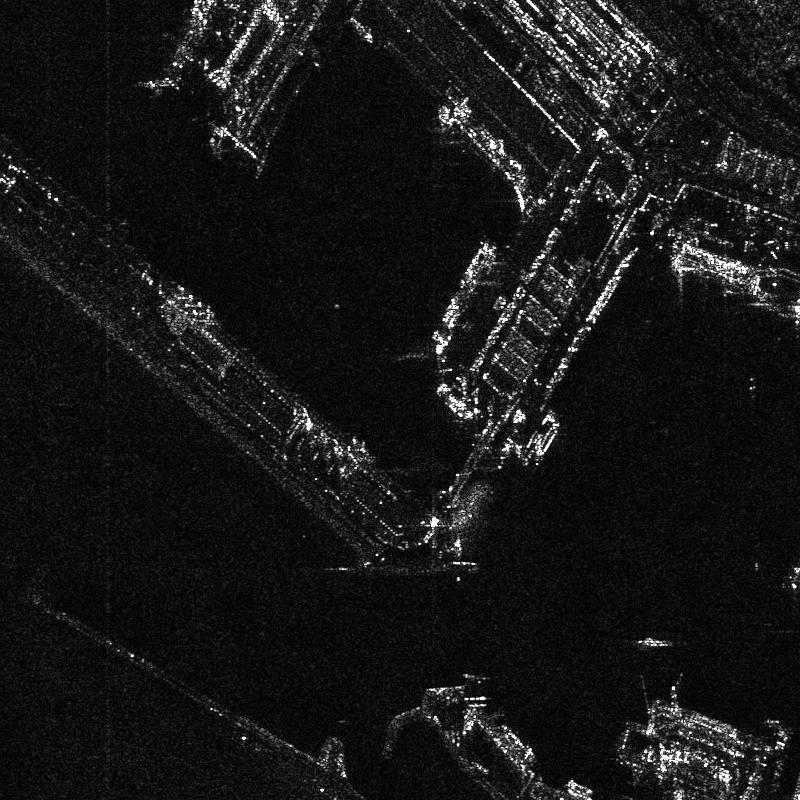ship: (431, 242, 496, 355), (452, 96, 529, 190), (670, 243, 760, 292), (660, 748, 731, 783), (435, 384, 473, 419), (501, 724, 535, 761), (535, 423, 558, 456), (566, 779, 594, 799), (350, 17, 373, 41), (638, 637, 672, 646)
